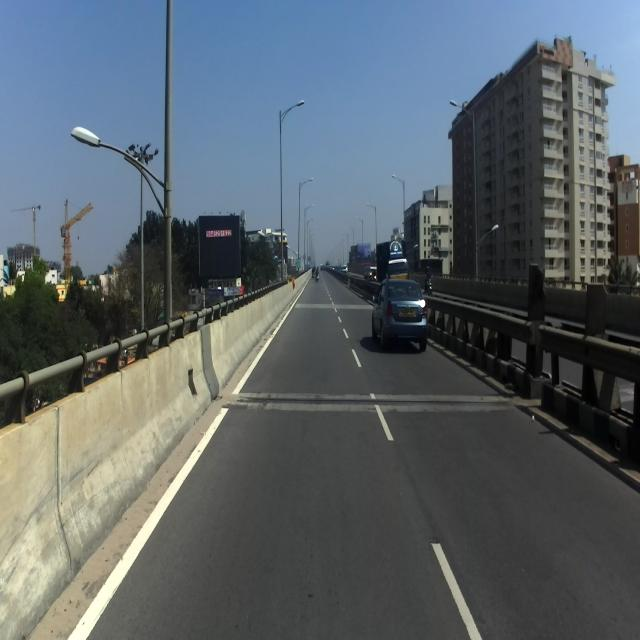car ahead at: (374, 269, 431, 351)
